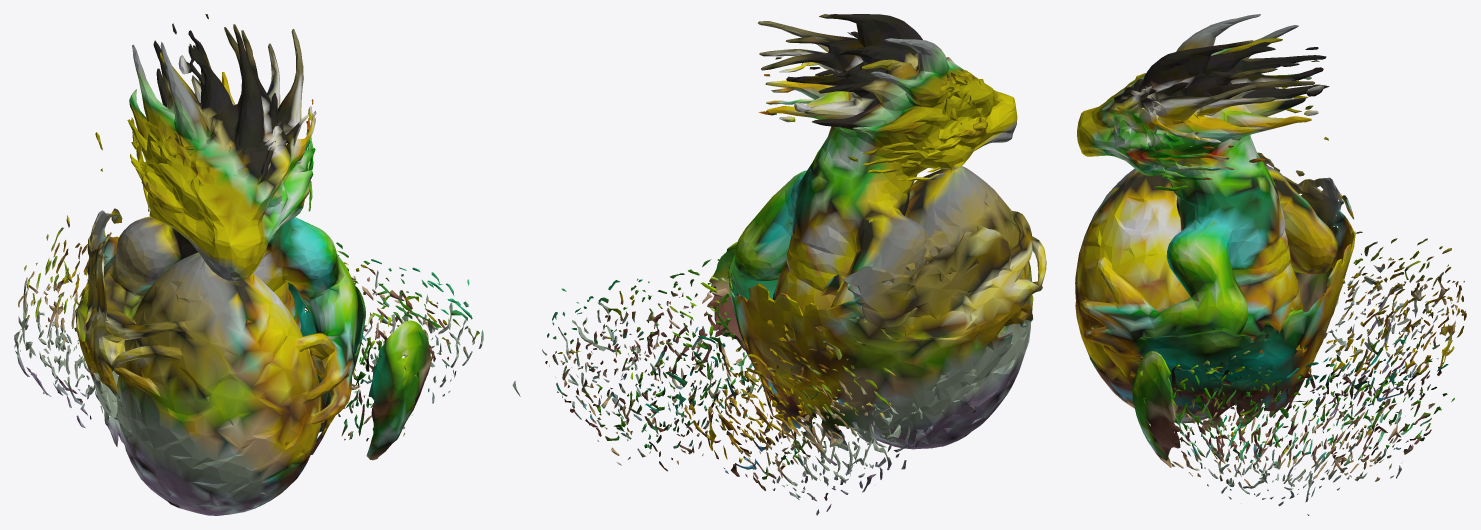
Rendered from guardian.glb.
The picture shows the model from 3 angles, left to right: view 1: azimuth 30°, elevation 25°; view 2: azimuth 150°, elevation 25°; view 3: azimuth 270°, elevation 25°; orthographic projection. The views are drawn at different scales.
Parts seen in each view (by area): view 1: world; view 2: world; view 3: world.
Part boxes in pixels (box(x1,y1,x2,y2)): world: box(14, 14, 483, 515); world: box(512, 14, 1046, 515); world: box(1075, 14, 1466, 515).
Bounding box in the file's own units: 0.9933 × 1 × 0.8917.
